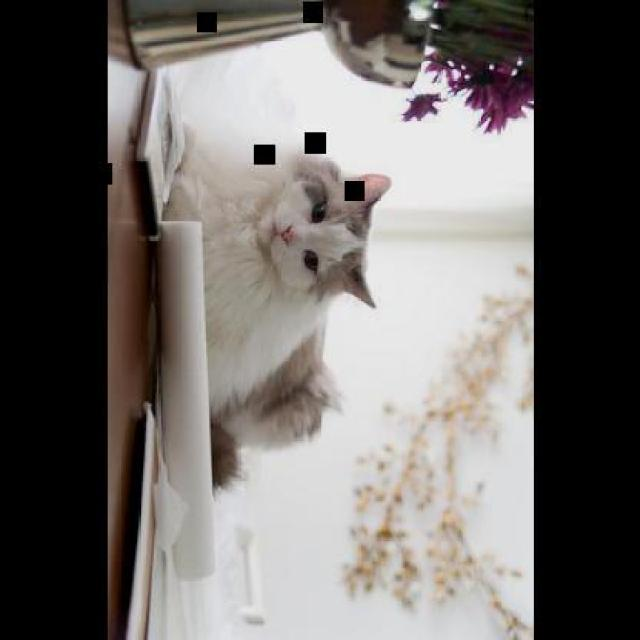unauthorized: (158, 142, 391, 492)
